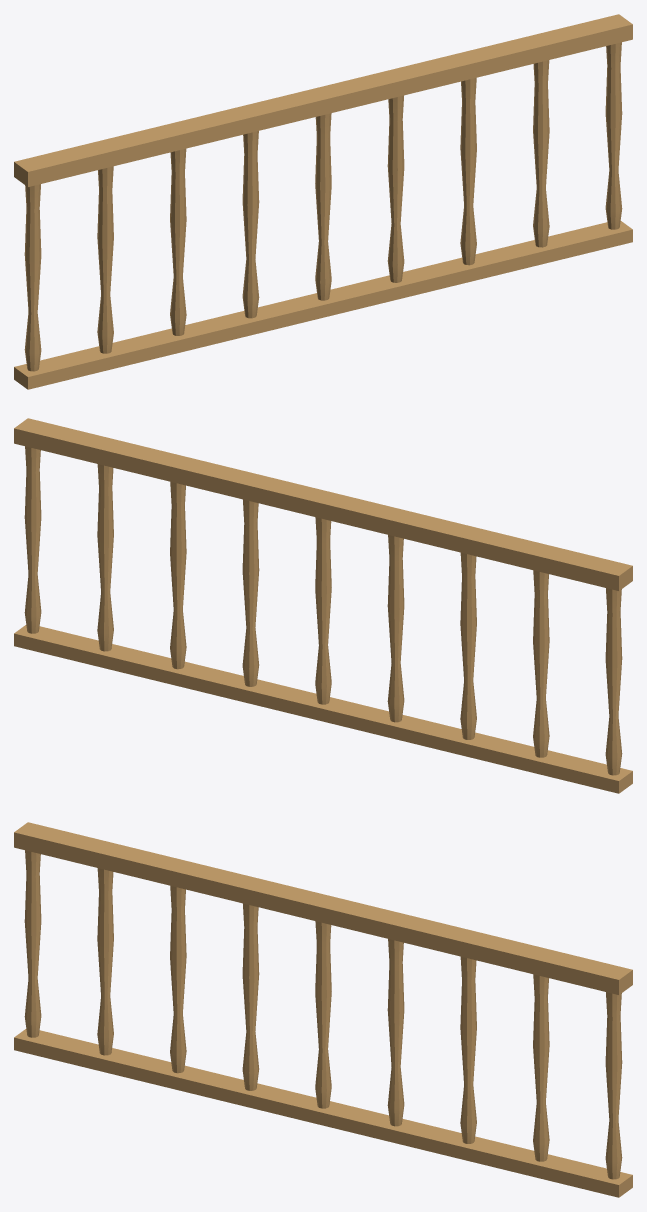
File: justice.court.bar_rail.glb
3 renders of one model, top to bottom at view 1: azimuth 30°, elevation 25°; view 2: azimuth 150°, elevation 25°; view 3: azimuth 330°, elevation 25°, orthographic.
Visible parts, largest first — view 1: main__glulam; view 2: main__glulam; view 3: main__glulam.
Part boxes in pixels (x1,y1,x2,y2): main__glulam: [14, 14, 632, 389]; main__glulam: [14, 418, 632, 793]; main__glulam: [14, 822, 632, 1197].
Bounding box in the file's own units: 2.5 × 0.86 × 0.1.
